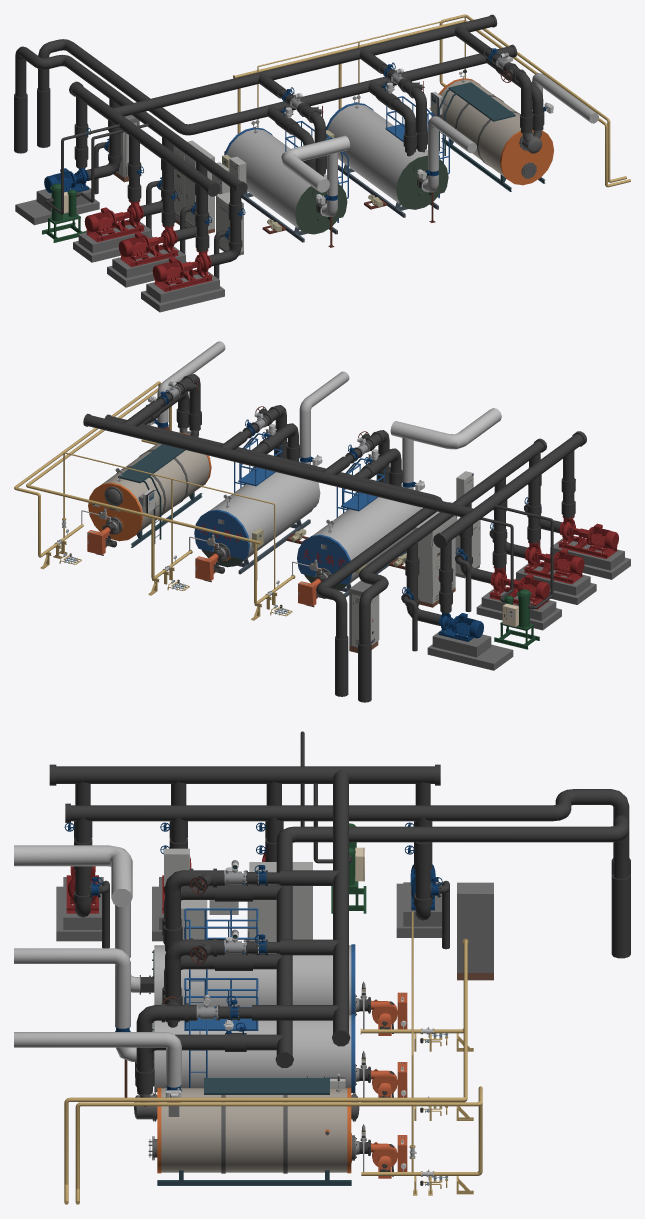
The model's file is GLF.glb.
3 views of the same model, one above another, from view 1: azimuth 30°, elevation 25°; view 2: azimuth 150°, elevation 25°; view 3: azimuth 270°, elevation 25° (orthographic). The views are drawn at different scales.
Parts seen in each view (by area): view 1: CSN-锅炉房热水循环水回水管, Lo-天大真空热水锅炉_01, Lo-斯大真空热水锅炉主体_01, Lo-天大真空热水锅炉_002, CSN-锅炉房热水循环水供水管, CSN-锅炉房混凝土基础, CSN-锅炉房锅炉排烟管, CSN-锅炉房循环泵进水管, CSN-锅炉房锅炉进水管, CSN-锅炉房循环泵出水管, CSN-锅炉房燃气管道, CSN-锅炉房锅炉出水管 (+10 smaller); view 2: CSN-锅炉房热水循环水回水管, Lo-天大真空热水锅炉_01, Lo-斯大真空热水锅炉主体_01, Lo-天大真空热水锅炉_002, CSN-锅炉房混凝土基础, CSN-锅炉房燃气管道, CSN-锅炉房锅炉排烟管, CSN-锅炉房热水循环水供水管, CSN-锅炉房循环泵出水管, CSN-锅炉房循环泵进水管, CSN-锅炉房锅炉进水管, CSN-锅炉房锅炉出水管 (+10 smaller); view 3: CSN-锅炉房热水循环水回水管, Lo-斯大真空热水锅炉主体_01, CSN-锅炉房热水循环水供水管, CSN-锅炉房锅炉排烟管, Lo-天大真空热水锅炉_01, CSN-锅炉房燃气管道, Lo-天大真空热水锅炉_002, CSN-锅炉房锅炉进水管, CSN-锅炉房锅炉出水管, CSN-锅炉房循环泵进水管, CSN-锅炉房混凝土基础, CSN-锅炉房控制箱1 (+9 smaller).
Part boxes in pixels (x1,y1,x2,y2): CSN-锅炉房热水循环水回水管: (14,14,497,196); Lo-天大真空热水锅炉_01: (326,95,449,217); Lo-斯大真空热水锅炉主体_01: (430,69,553,191); Lo-天大真空热水锅炉_002: (222,120,348,242); CSN-锅炉房热水循环水供水管: (37,39,517,147); CSN-锅炉房混凝土基础: (15,185,224,312); CSN-锅炉房锅炉排烟管: (281,73,598,216); CSN-锅炉房循环泵进水管: (85,97,242,278); CSN-锅炉房锅炉进水管: (258,24,533,176); CSN-锅炉房循环泵出水管: (74,96,209,251); CSN-锅炉房燃气管道: (233,14,630,187); CSN-锅炉房锅炉出水管: (267,58,544,170); CSN-锅炉房热水循环水回水管: (83,413,586,702); Lo-天大真空热水锅炉_01: (189,433,320,582); Lo-斯大真空热水锅炉主体_01: (81,426,211,555); Lo-天大真空热水锅炉_002: (292,458,421,607); CSN-锅炉房混凝土基础: (427,538,630,670); CSN-锅炉房燃气管道: (14,381,295,620); CSN-锅炉房锅炉排烟管: (157,341,501,489); CSN-锅炉房热水循环水供水管: (104,414,442,696); CSN-锅炉房循环泵出水管: (439,450,575,613); CSN-锅炉房循环泵进水管: (401,451,561,651); CSN-锅炉房锅炉进水管: (123,374,390,483); CSN-锅炉房锅炉出水管: (142,391,402,486); CSN-锅炉房热水循环水回水管: (49,764,630,1046); Lo-斯大真空热水锅炉主体_01: (134,1074,407,1185); CSN-锅炉房热水循环水供水管: (275,815,630,1067); CSN-锅炉房锅炉排烟管: (14,845,181,1102); Lo-天大真空热水锅炉_01: (152,978,407,1097); CSN-锅炉房燃气管道: (64,911,482,1204); Lo-天大真空热水锅炉_002: (140,908,407,1035); CSN-锅炉房锅炉进水管: (135,870,340,1077); CSN-锅炉房锅炉出水管: (135,883,284,1094); CSN-锅炉房循环泵进水管: (74,817,449,949); CSN-锅炉房混凝土基础: (56,877,442,941); CSN-锅炉房控制箱1: (457,882,493,980).
Size of the model in its own units: 14.85 by 3.6 by 11.61.
9 materials, 9 textured.
